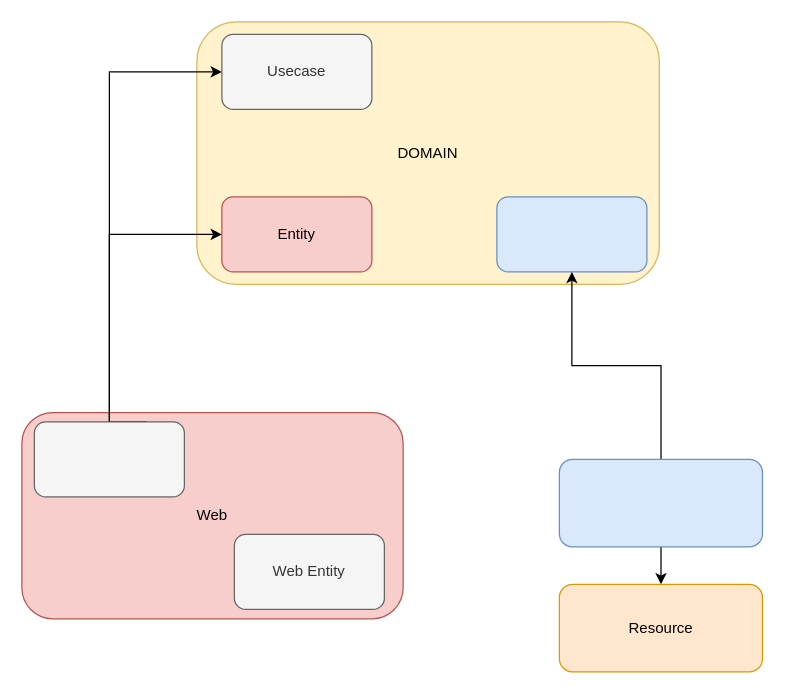
Some shapes in this 785 by 694 pixel diagram are drawn without their labels. The shapes that lost their labels are listed below. From the top down, each one's centre as x and y in pixels, then its label:
point 571,234: Repository Interface
point 108,459: Handler
point 660,502: Repository
